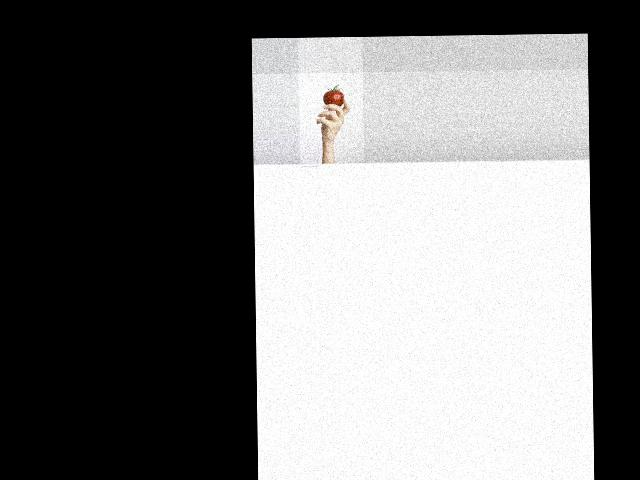tomato: (322, 84, 343, 106)
